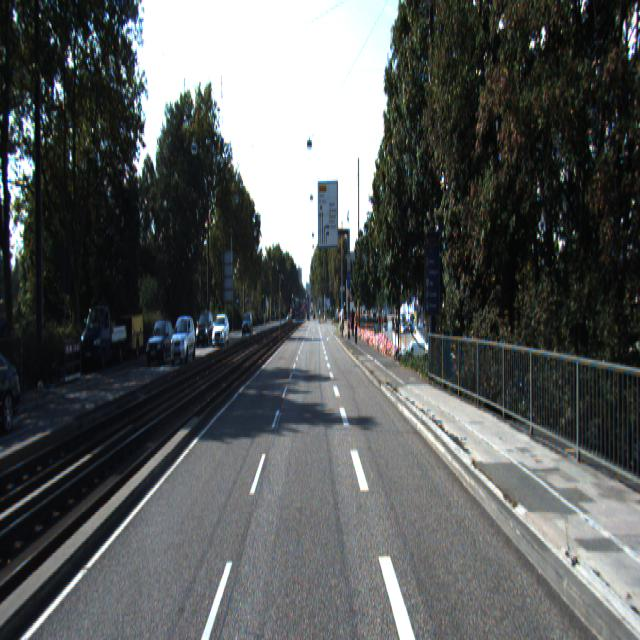Car: (80, 302, 128, 372), (0, 328, 31, 433), (146, 319, 178, 367), (170, 313, 197, 363), (125, 316, 144, 362), (211, 311, 230, 349), (196, 311, 215, 349)
